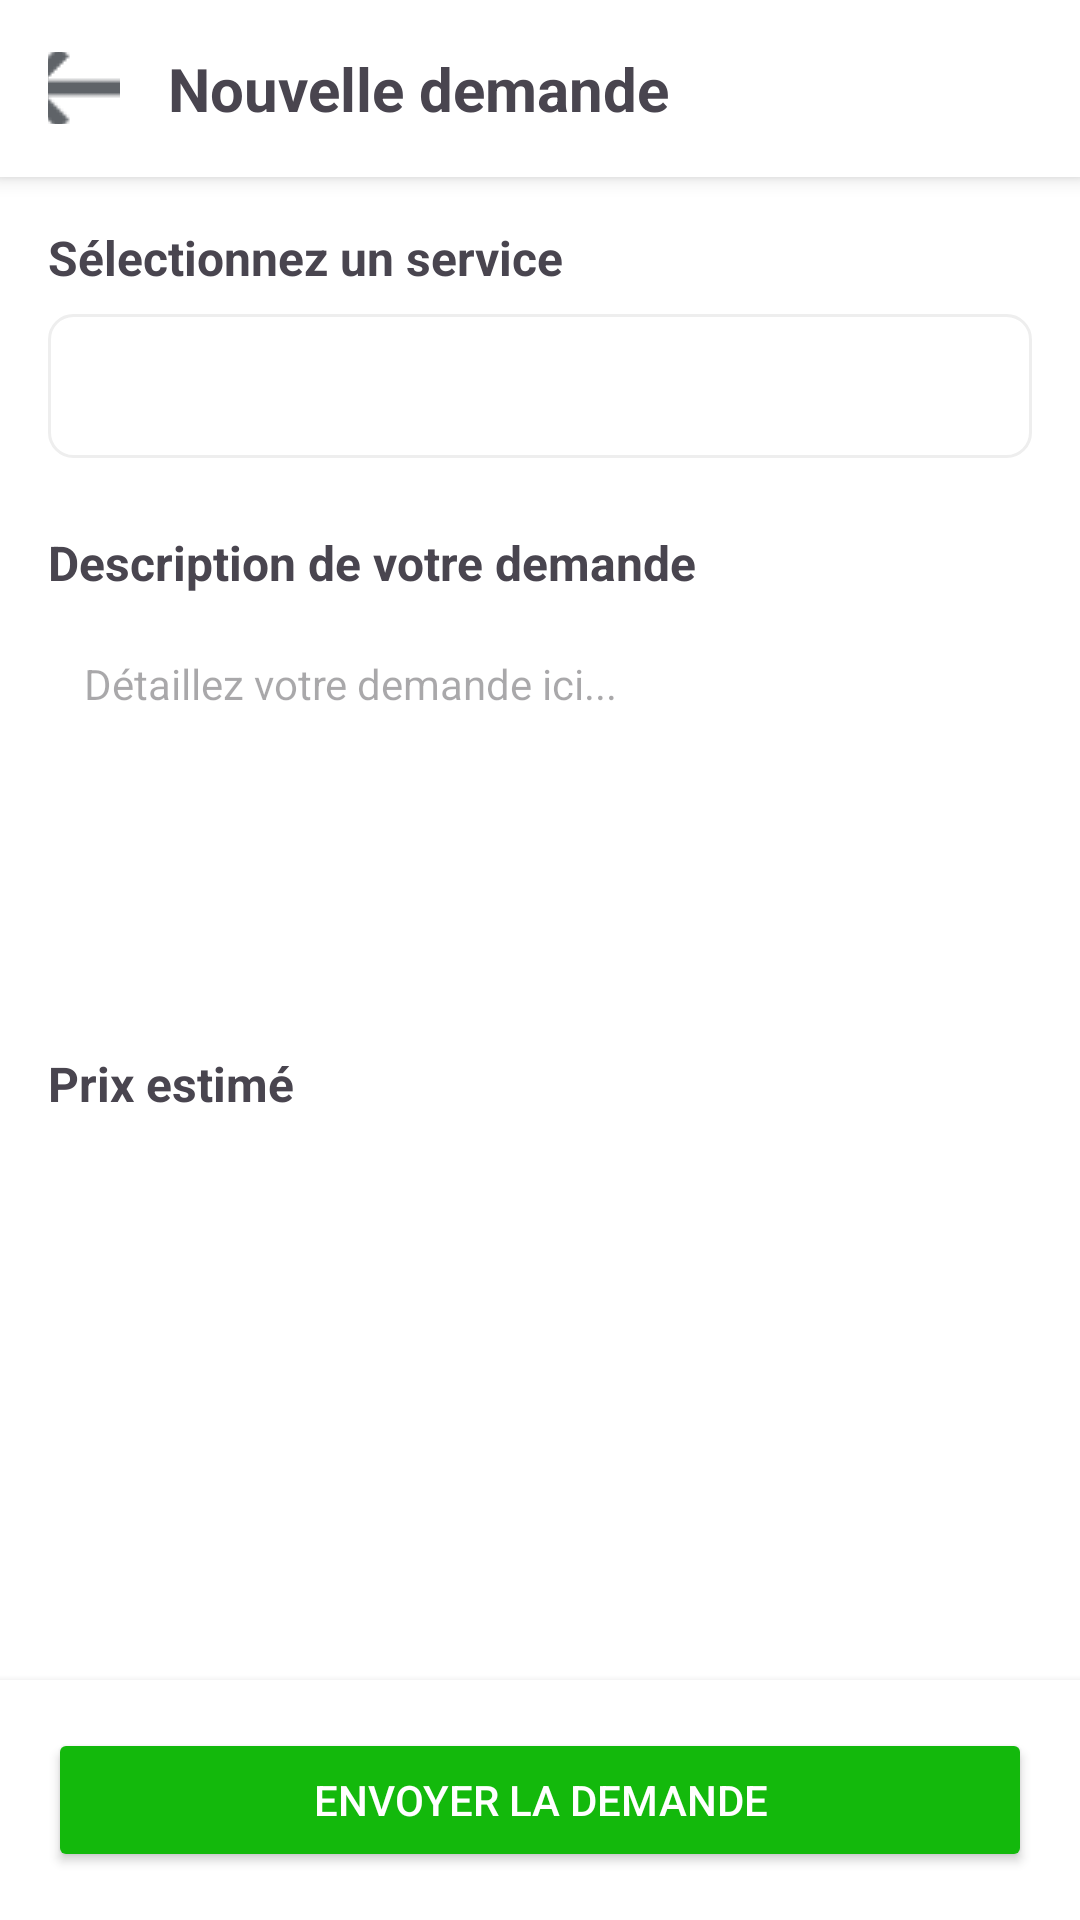

Icon bounding boxes for this 1080*1920 phone screenshot, format (x1, y1, x2, y2):
Retour: (48, 52, 120, 124)
